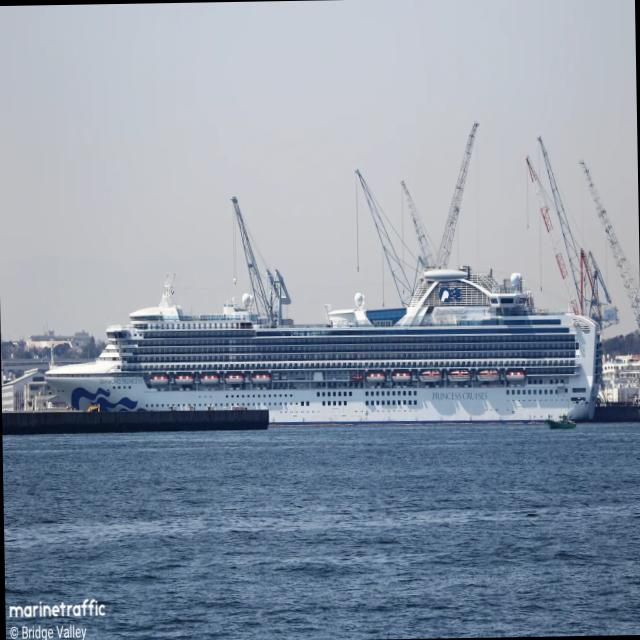Cruise: (46, 266, 600, 424)
